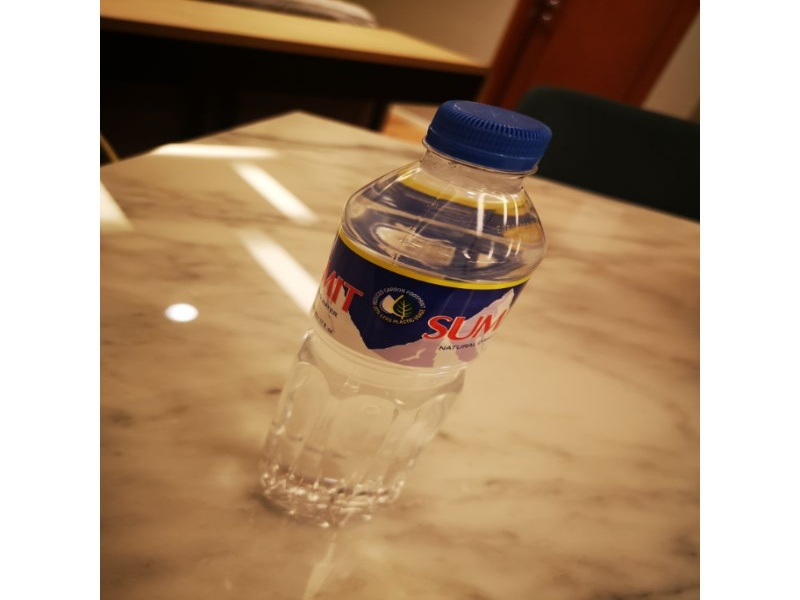PET #1: (253, 89, 553, 544)
